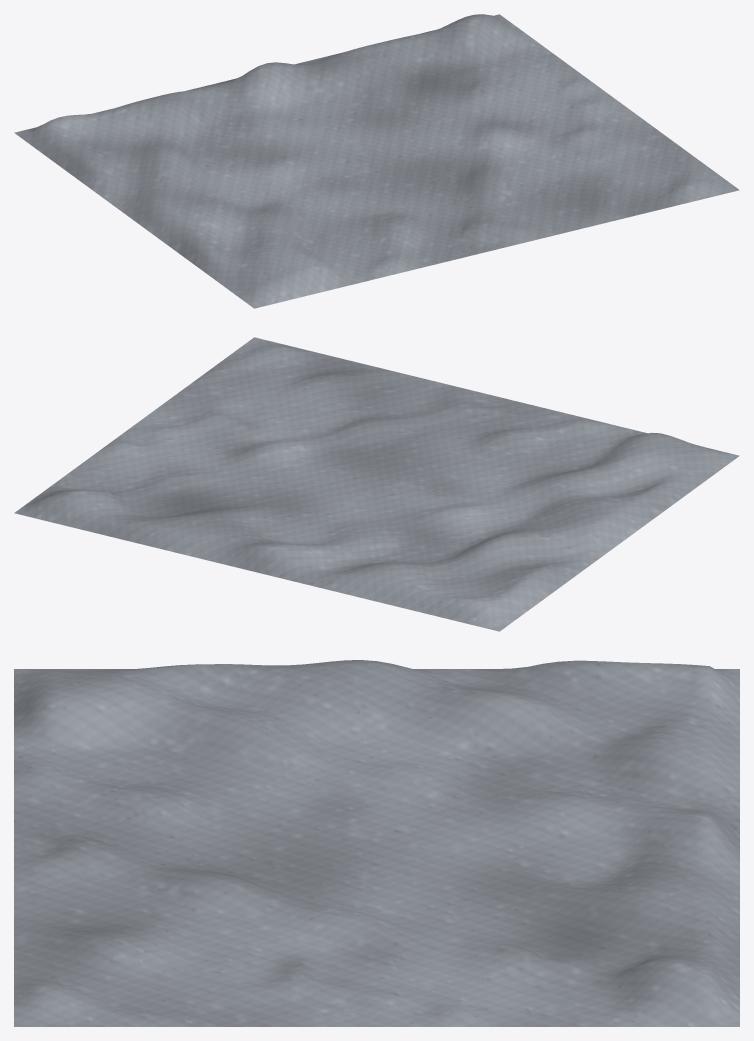
File: TerrainMesh.fbx
3 renders of one model, top to bottom at view 1: azimuth 30°, elevation 25°; view 2: azimuth 150°, elevation 25°; view 3: azimuth 270°, elevation 25°, orthographic. The views are drawn at different scales.
Parts seen in each view (by area): view 1: TerrainMesh; view 2: TerrainMesh; view 3: TerrainMesh.
Boxes of the visible parts, x1,y1,x2,y2 form: TerrainMesh: (14, 14, 739, 308); TerrainMesh: (14, 337, 739, 631); TerrainMesh: (14, 660, 739, 1026).
Bounding box in the file's own units: 56 × 1.94 × 48.
